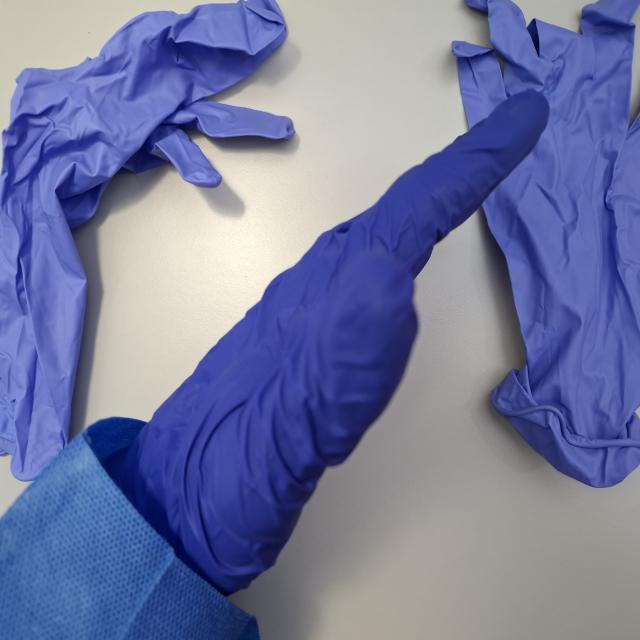glove_on: (107, 82, 552, 599)
